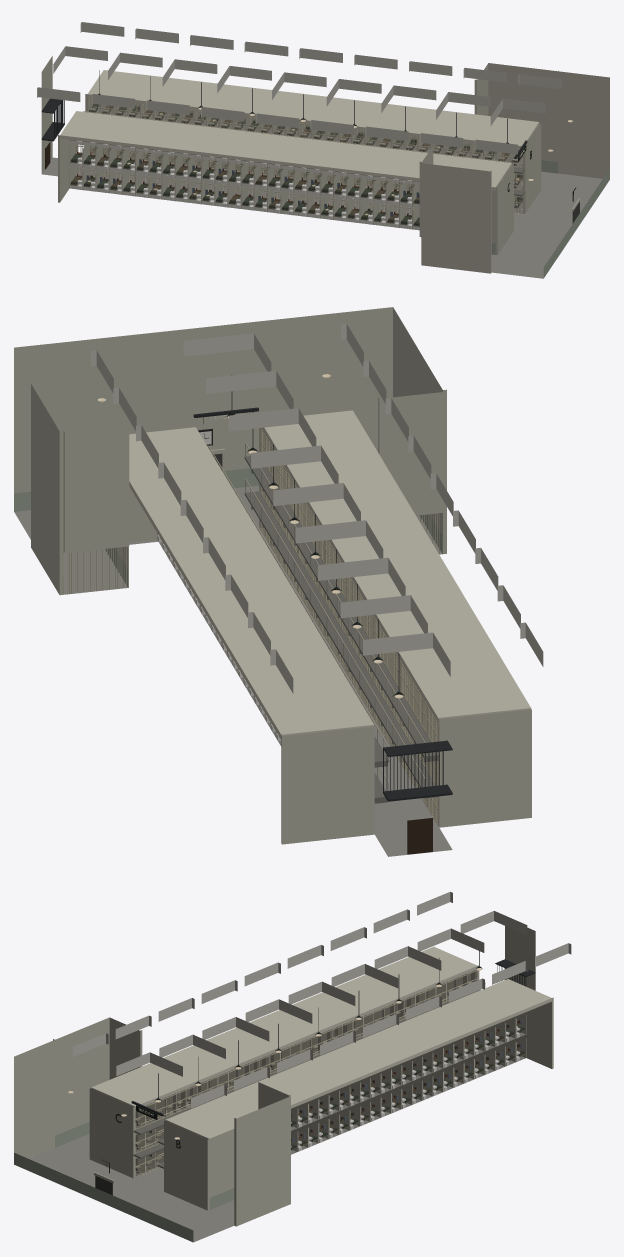
File: alcatraz_int.glb
3 renders of one model, top to bottom at view 1: azimuth 30°, elevation 25°; view 2: azimuth 150°, elevation 25°; view 3: azimuth 270°, elevation 25°, orthographic. The views are drawn at different scales.
Parts seen in each view (by area): view 1: I_x_plaster, I_concrete, I_metal, I_x_velvet, I_tiles, I_d_x_velvet, I_x_veneer, I_d_paint; view 2: I_x_plaster, I_concrete, I_metal, I_x_veneer; view 3: I_x_plaster, I_concrete, I_metal, I_tiles, I_d_x_velvet, I_x_velvet.
Part boxes in pixels (<box>): I_x_plaster: <box>37,22,609,278</box>; I_concrete: <box>42,70,602,278</box>; I_metal: <box>41,70,579,226</box>; I_x_velvet: <box>70,104,522,225</box>; I_tiles: <box>77,140,411,229</box>; I_d_x_velvet: <box>71,106,522,224</box>; I_x_veneer: <box>45,142,501,216</box>; I_d_paint: <box>77,111,522,215</box>; I_x_plaster: <box>14,307,543,844</box>; I_concrete: <box>14,410,531,856</box>; I_metal: <box>63,375,452,824</box>; I_x_veneer: <box>407,818,432,854</box>; I_x_plaster: <box>14,891,571,1242</box>; I_concrete: <box>28,946,551,1241</box>; I_metal: <box>95,951,535,1195</box>; I_tiles: <box>291,1027,520,1154</box>; I_d_x_velvet: <box>135,982,524,1168</box>; I_x_velvet: <box>135,980,524,1169</box>.
Size of the model in its own units: 61.89 by 13.7 by 62.55.
